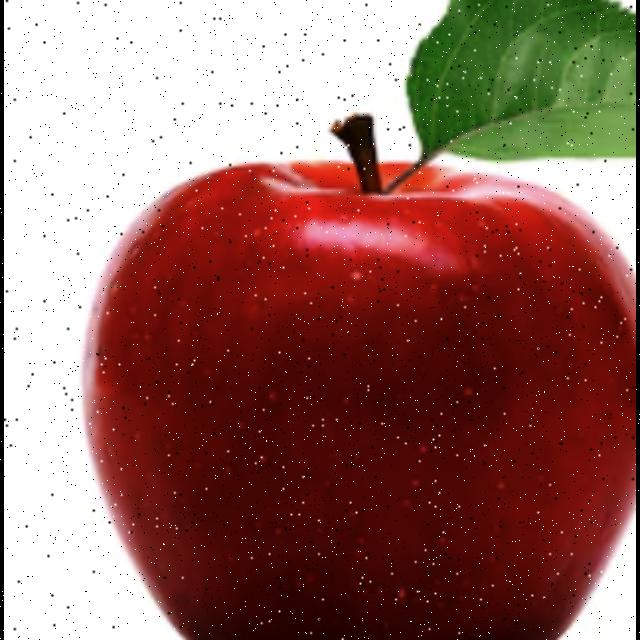Apel Segar: (68, 138, 636, 640)
